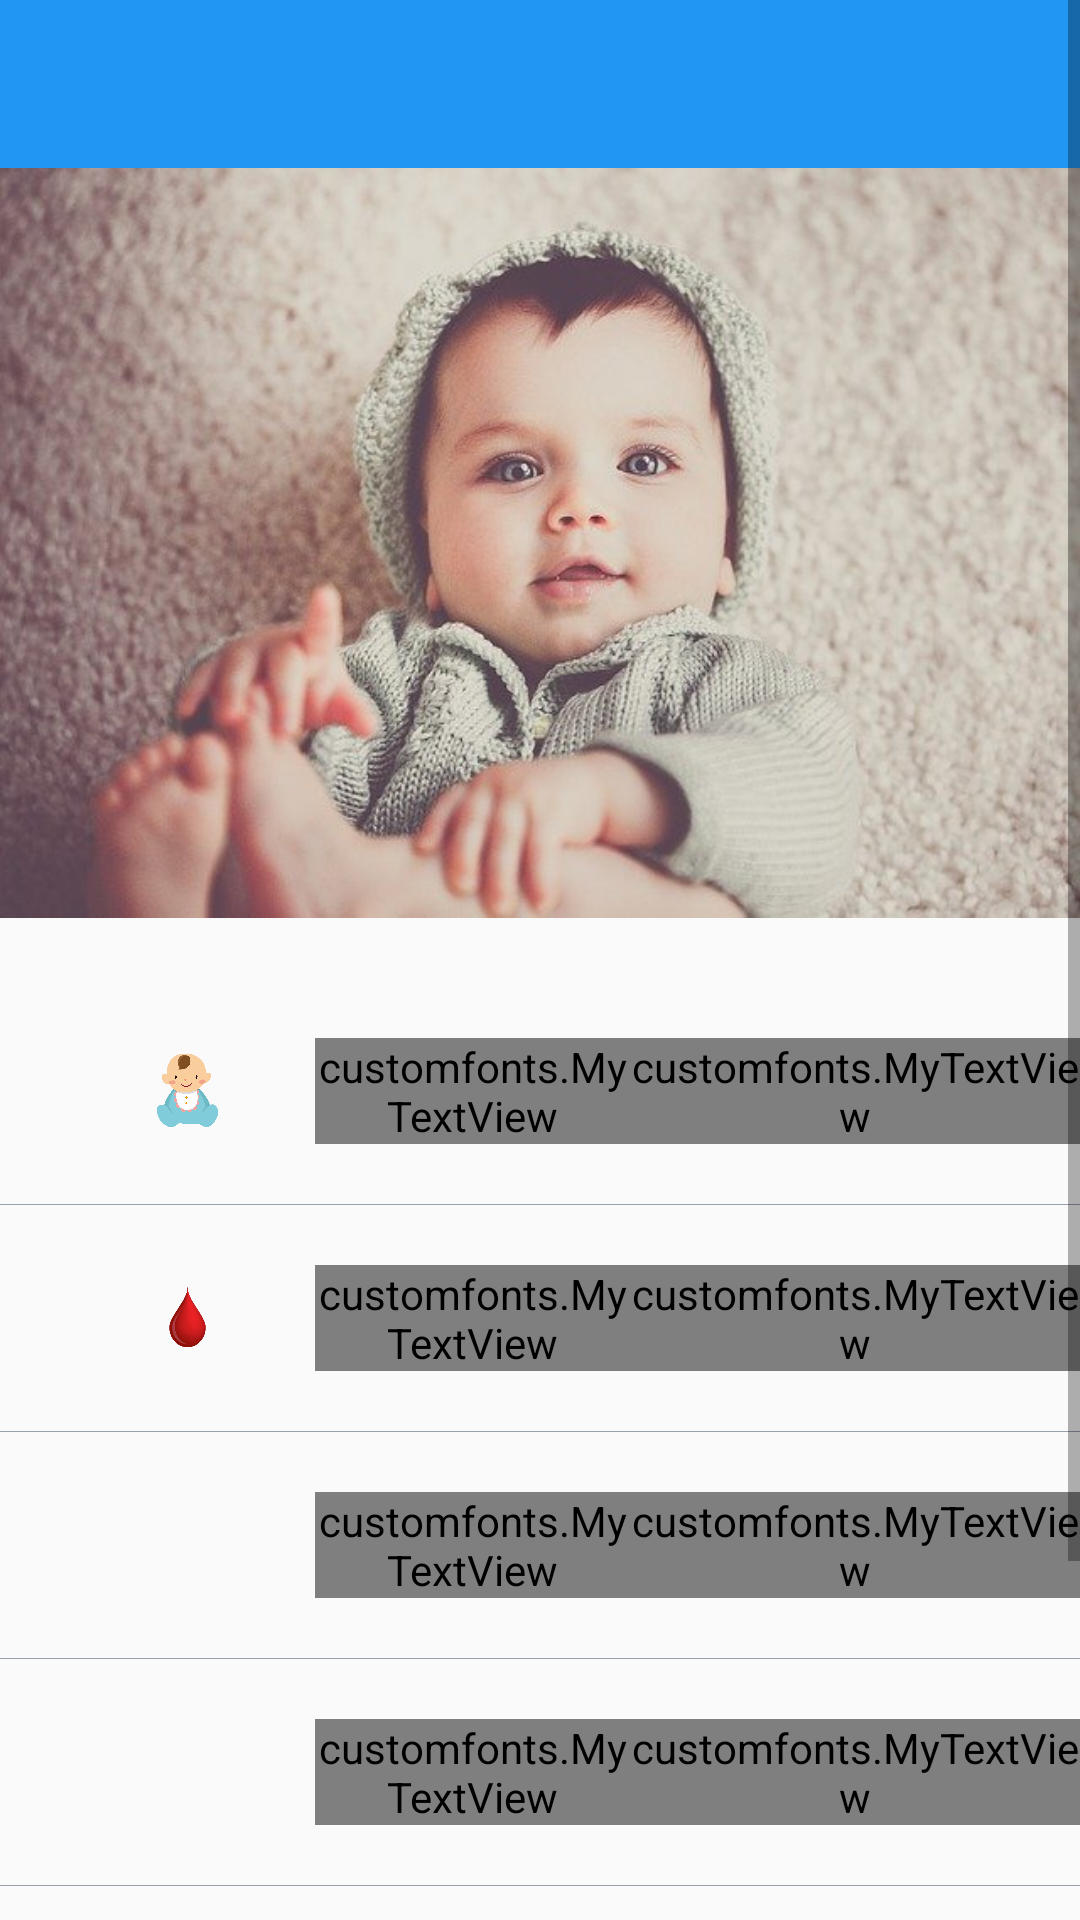

Where icons sit on this 1080w x 1920h app screen, as box(x1, y1, x2, y2):
blood: box(169, 1287, 206, 1347)
kidd: box(157, 1054, 218, 1127)
